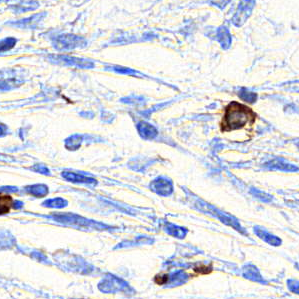Lymphocyte: (219, 99, 259, 132)
